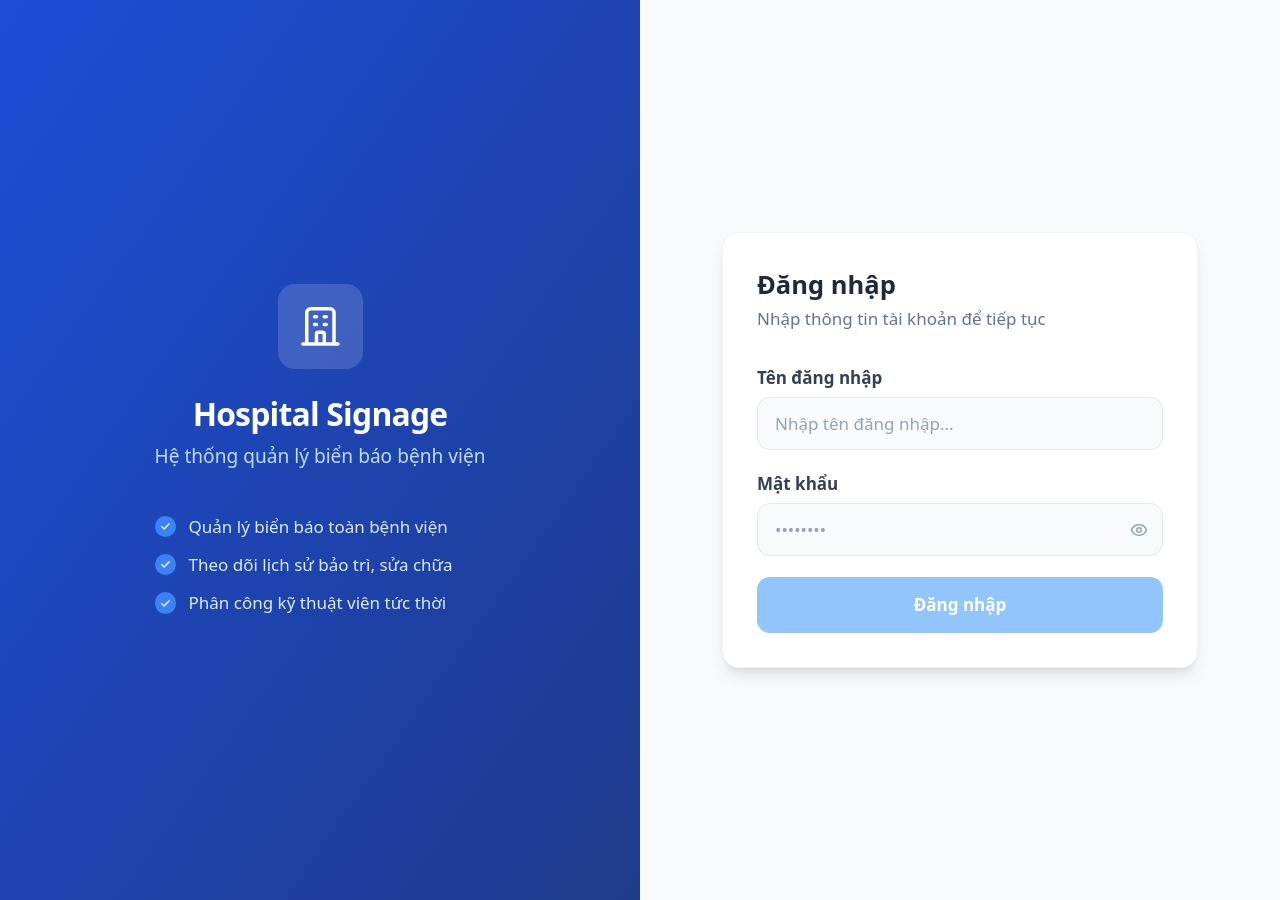
Scenario: LoginPage › shows error message from API on failed login
Step 1. Type "admin" into the field with placeholder "Nhập tên đăng nhập..." → {"x": 960, "y": 424}, box left=757, top=397, right=1163, bottom=450
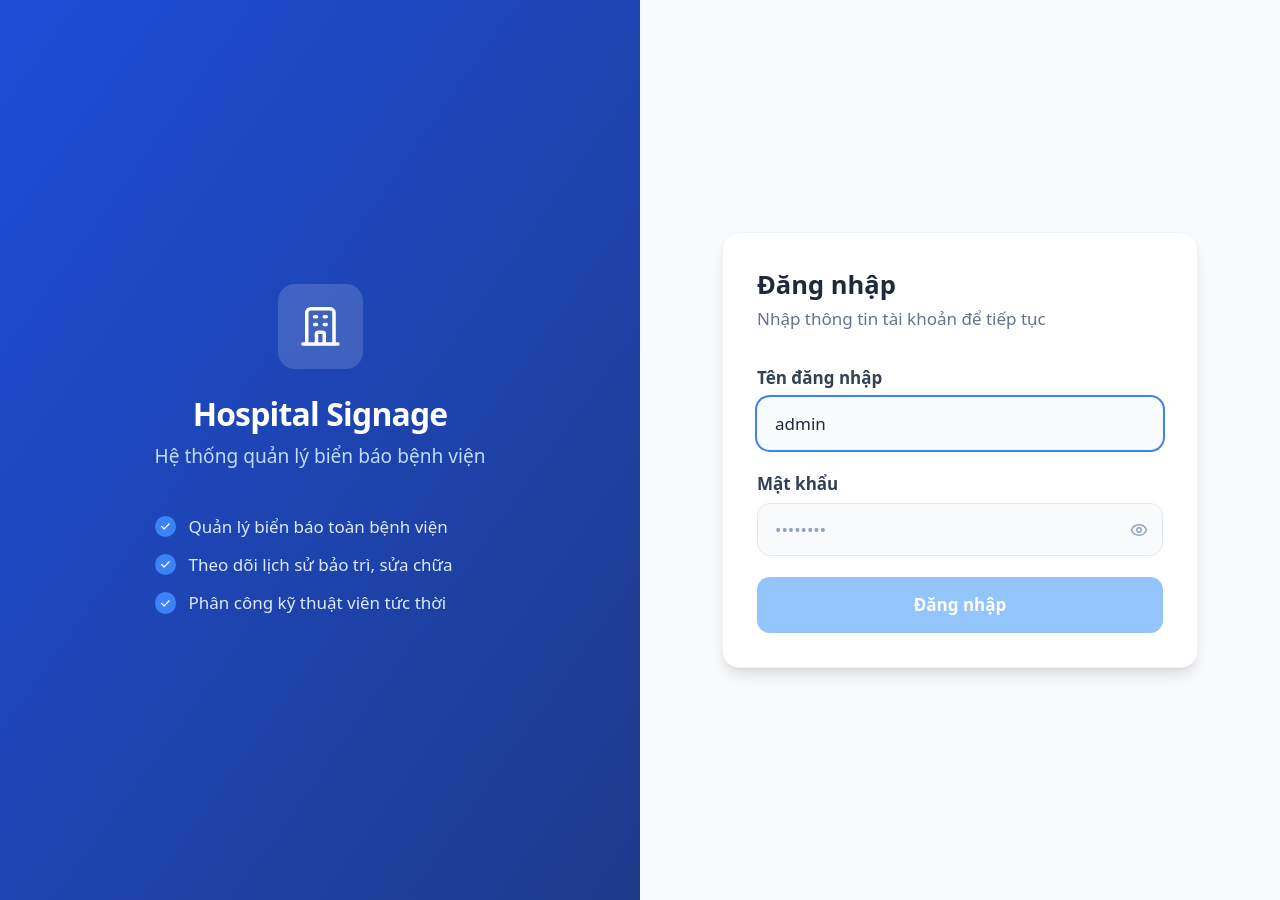
Step 2. Type "wrongpass" into the password field with placeholder "••••••••" → {"x": 960, "y": 530}, box left=757, top=503, right=1163, bottom=556
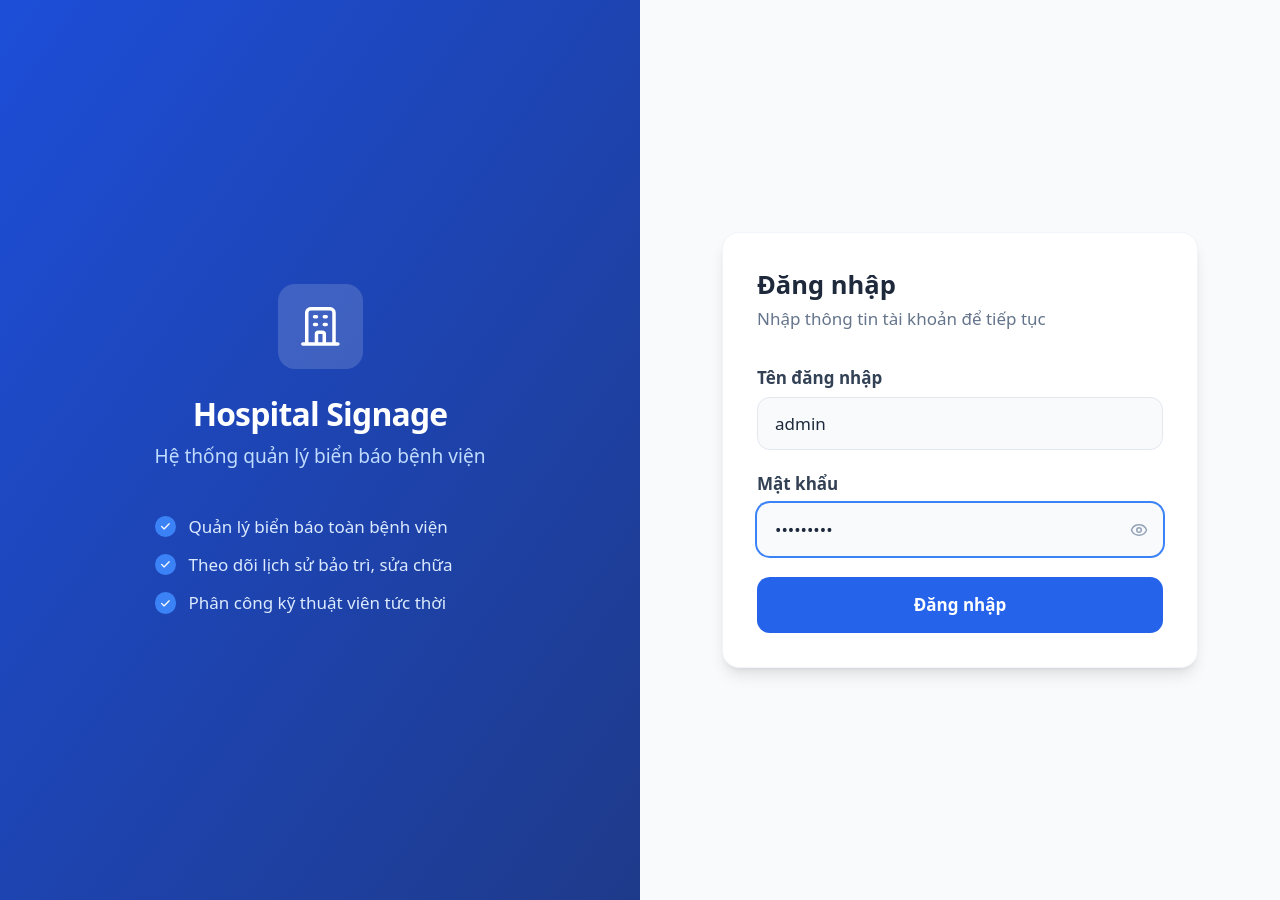
Step 3. Click the button "Đăng nhập" → {"x": 960, "y": 605}, box left=757, top=577, right=1163, bottom=633
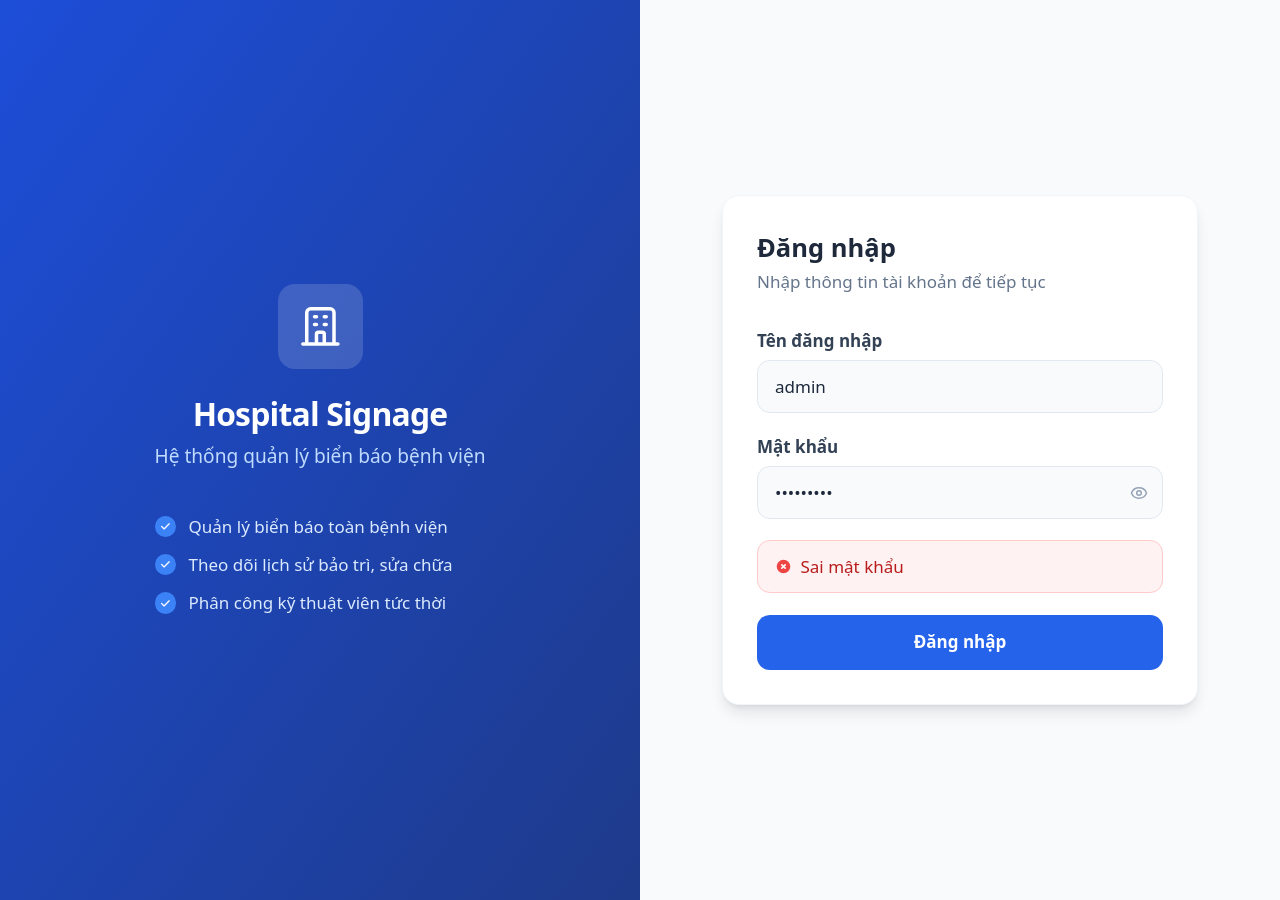
expect the text "Sai mật khẩu" is shown: met, box left=800, top=554, right=904, bottom=580
